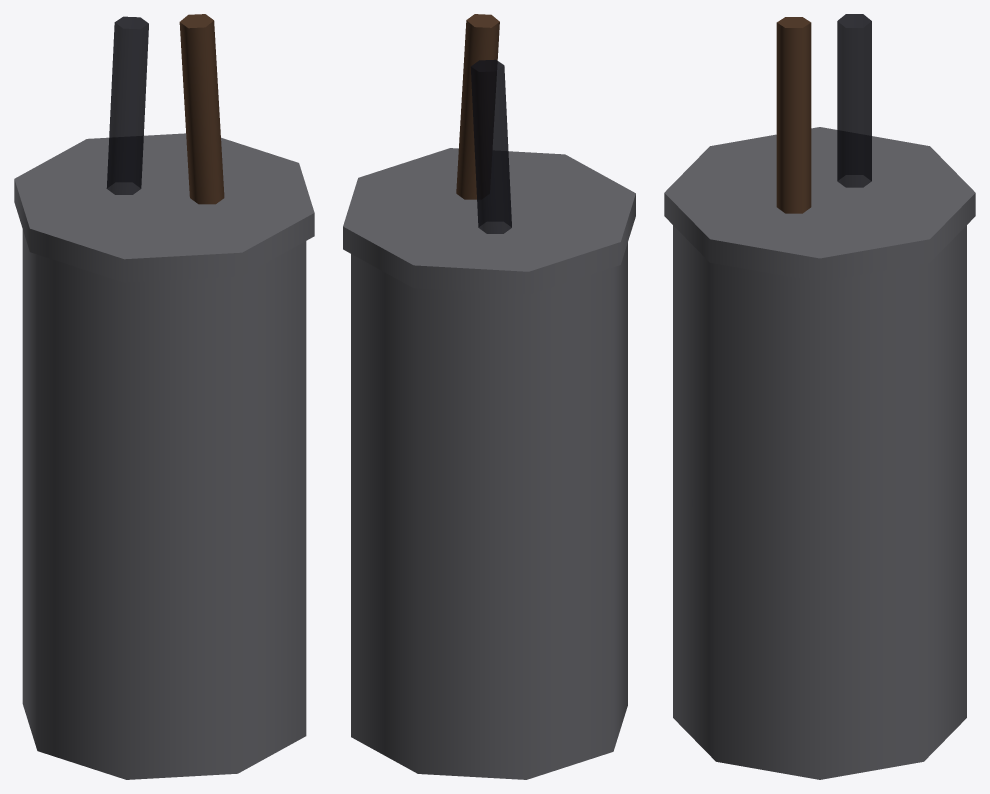
Rendered from PRP_P2_Umbrella_Stand_A.obj.
The picture shows the model from 3 angles, left to right: view 1: azimuth 30°, elevation 25°; view 2: azimuth 150°, elevation 25°; view 3: azimuth 270°, elevation 25°; orthographic projection. The views are drawn at different scales.
Parts seen in each view (by area): view 1: body, rim, umbrella_a, umbrella_b; view 2: body, rim, umbrella_b, umbrella_a; view 3: body, rim, umbrella_a, umbrella_b.
Part boxes in pixels (box(x1,y1,x2,y2)): body: box(22, 229, 306, 779); rim: box(14, 133, 314, 282); umbrella_a: box(179, 14, 224, 204); umbrella_b: box(106, 16, 148, 194); body: box(351, 242, 627, 779); rim: box(343, 148, 635, 294); umbrella_b: box(470, 59, 511, 233); umbrella_a: box(456, 14, 499, 199); body: box(673, 225, 966, 779); rim: box(664, 127, 975, 281); umbrella_a: box(776, 17, 811, 213); umbrella_b: box(837, 14, 871, 187).
Bounding box in the file's own units: 0.36 × 0.9003 × 0.36.
